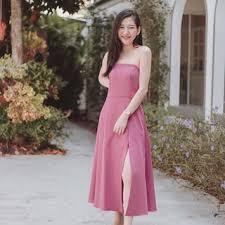dress: (82, 57, 163, 220)
